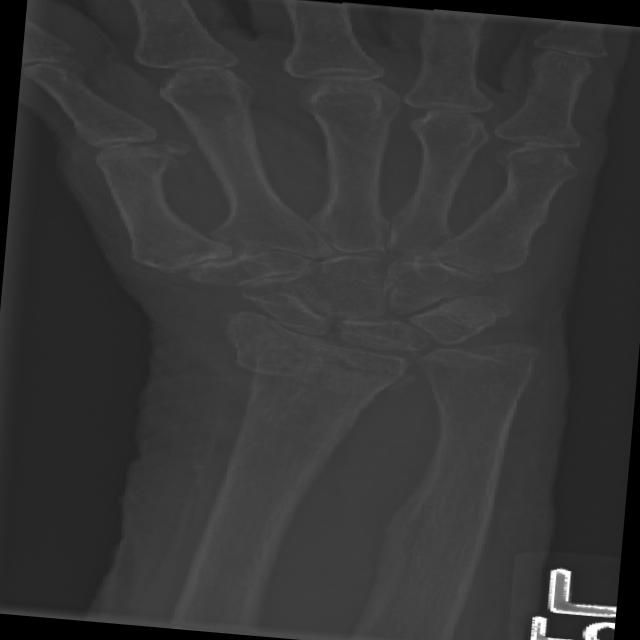fingers positive: (172, 299, 556, 406)
